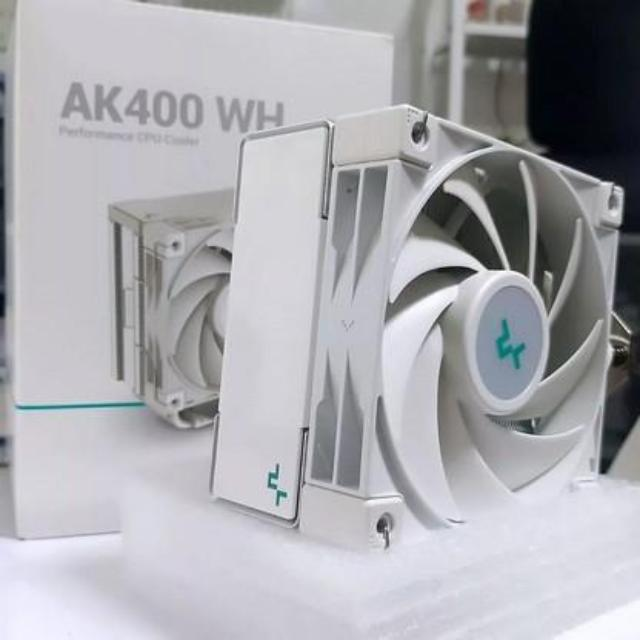CPU_Fan: (208, 104, 622, 550)
